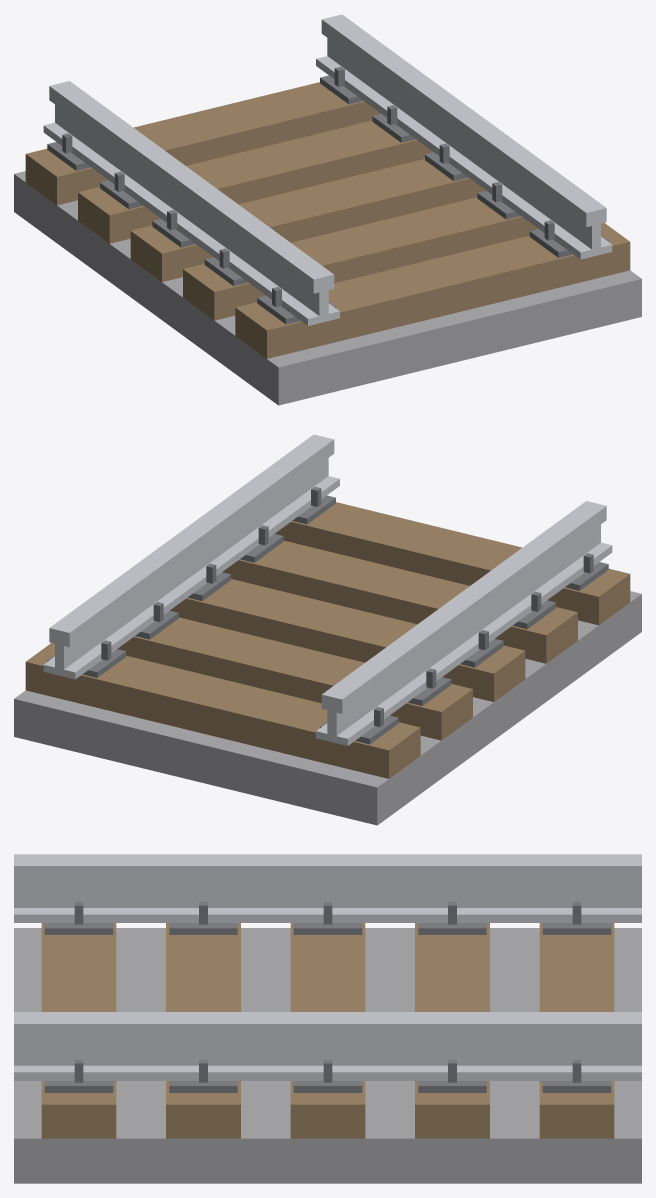
File: rail_straight.glb
The picture shows the model from 3 angles, top to bottom: view 1: azimuth 30°, elevation 25°; view 2: azimuth 150°, elevation 25°; view 3: azimuth 270°, elevation 25°; orthographic projection. The views are drawn at different scales.
Parts seen in each view (by area): view 1: rail; view 2: rail; view 3: rail.
Part boxes in pixels (<box>): rail: <box>14,14,641,405</box>; rail: <box>14,434,641,825</box>; rail: <box>14,854,641,1183</box>.
Size of the model in its own units: 0.8 by 0.247 by 1.01.
